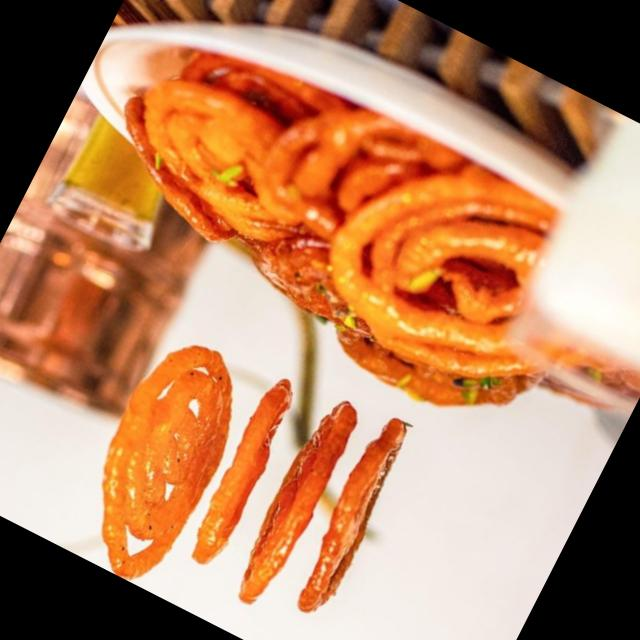jalebi: (125, 14, 608, 396), (48, 292, 441, 640)
